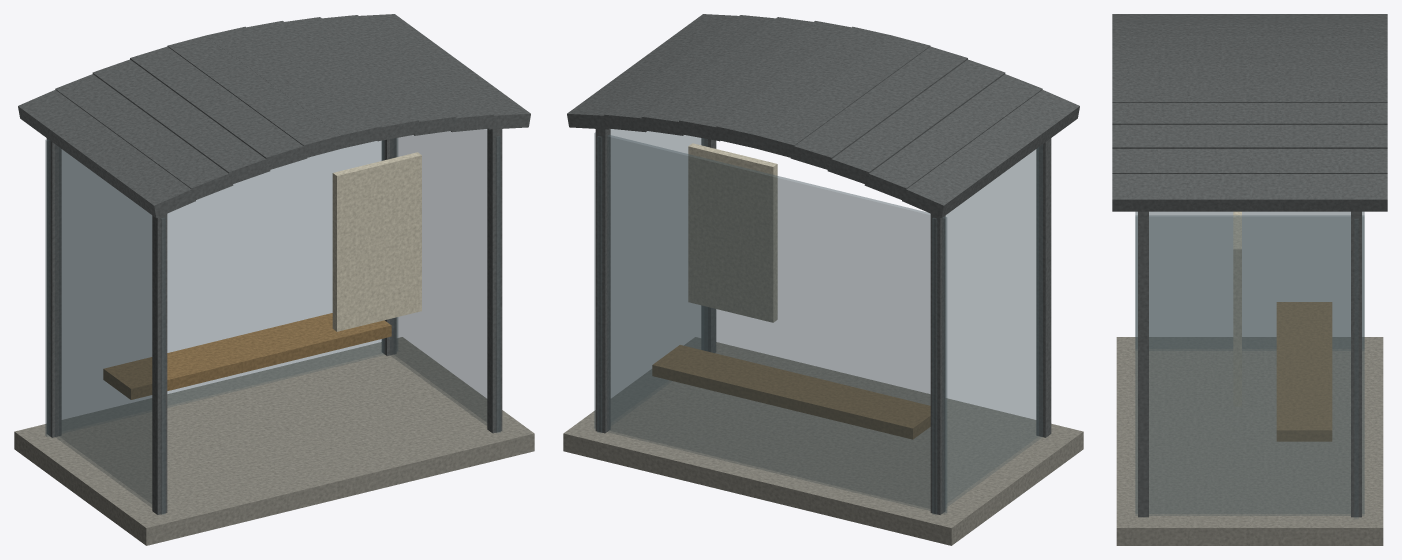
The model's file is BUSSTOP2_lod2.glb.
The picture shows the model from 3 angles, left to right: view 1: azimuth 30°, elevation 25°; view 2: azimuth 150°, elevation 25°; view 3: azimuth 270°, elevation 25°; orthographic projection.
Parts seen in each view (by area): view 1: BUSSTOP2_LOD2; view 2: BUSSTOP2_LOD2; view 3: BUSSTOP2_LOD2.
Boxes of the visible parts, left/top/right/bottom form: BUSSTOP2_LOD2: left=14, top=14, right=534, bottom=545; BUSSTOP2_LOD2: left=563, top=14, right=1083, bottom=545; BUSSTOP2_LOD2: left=1112, top=14, right=1387, bottom=545.
Size of the model in its own units: 3.65 by 3.28 by 2.22.
Materials: 5 (4 with a texture image).
